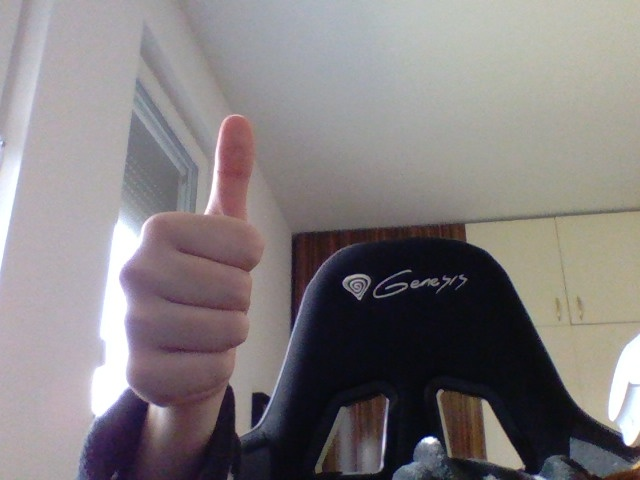ThumbsUp: (119, 115, 266, 404)
